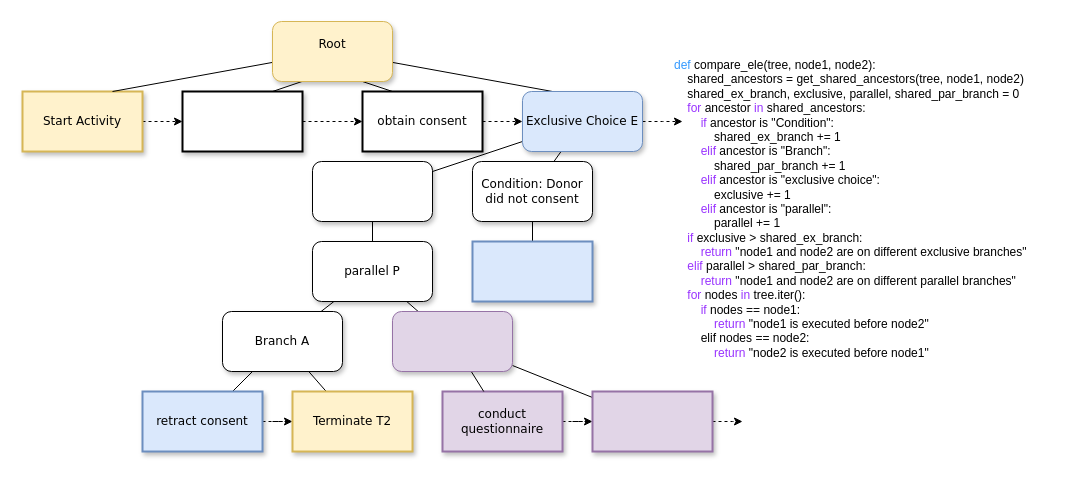
Image size: 1079x477. Some labels were removed from this diagram. The centre of each missing label's shape, as x and y in pixels:
"Branch B" belongs at (x=453, y=342).
"Condition: Donor consented" belongs at (x=373, y=192).
"direct questions" belongs at (x=653, y=422).
"provide information" belongs at (x=243, y=122).
"Terminate T1" belongs at (x=533, y=272).
